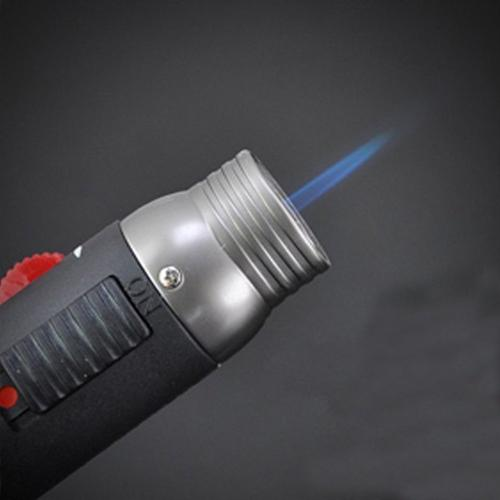fire: (283, 117, 397, 248)
